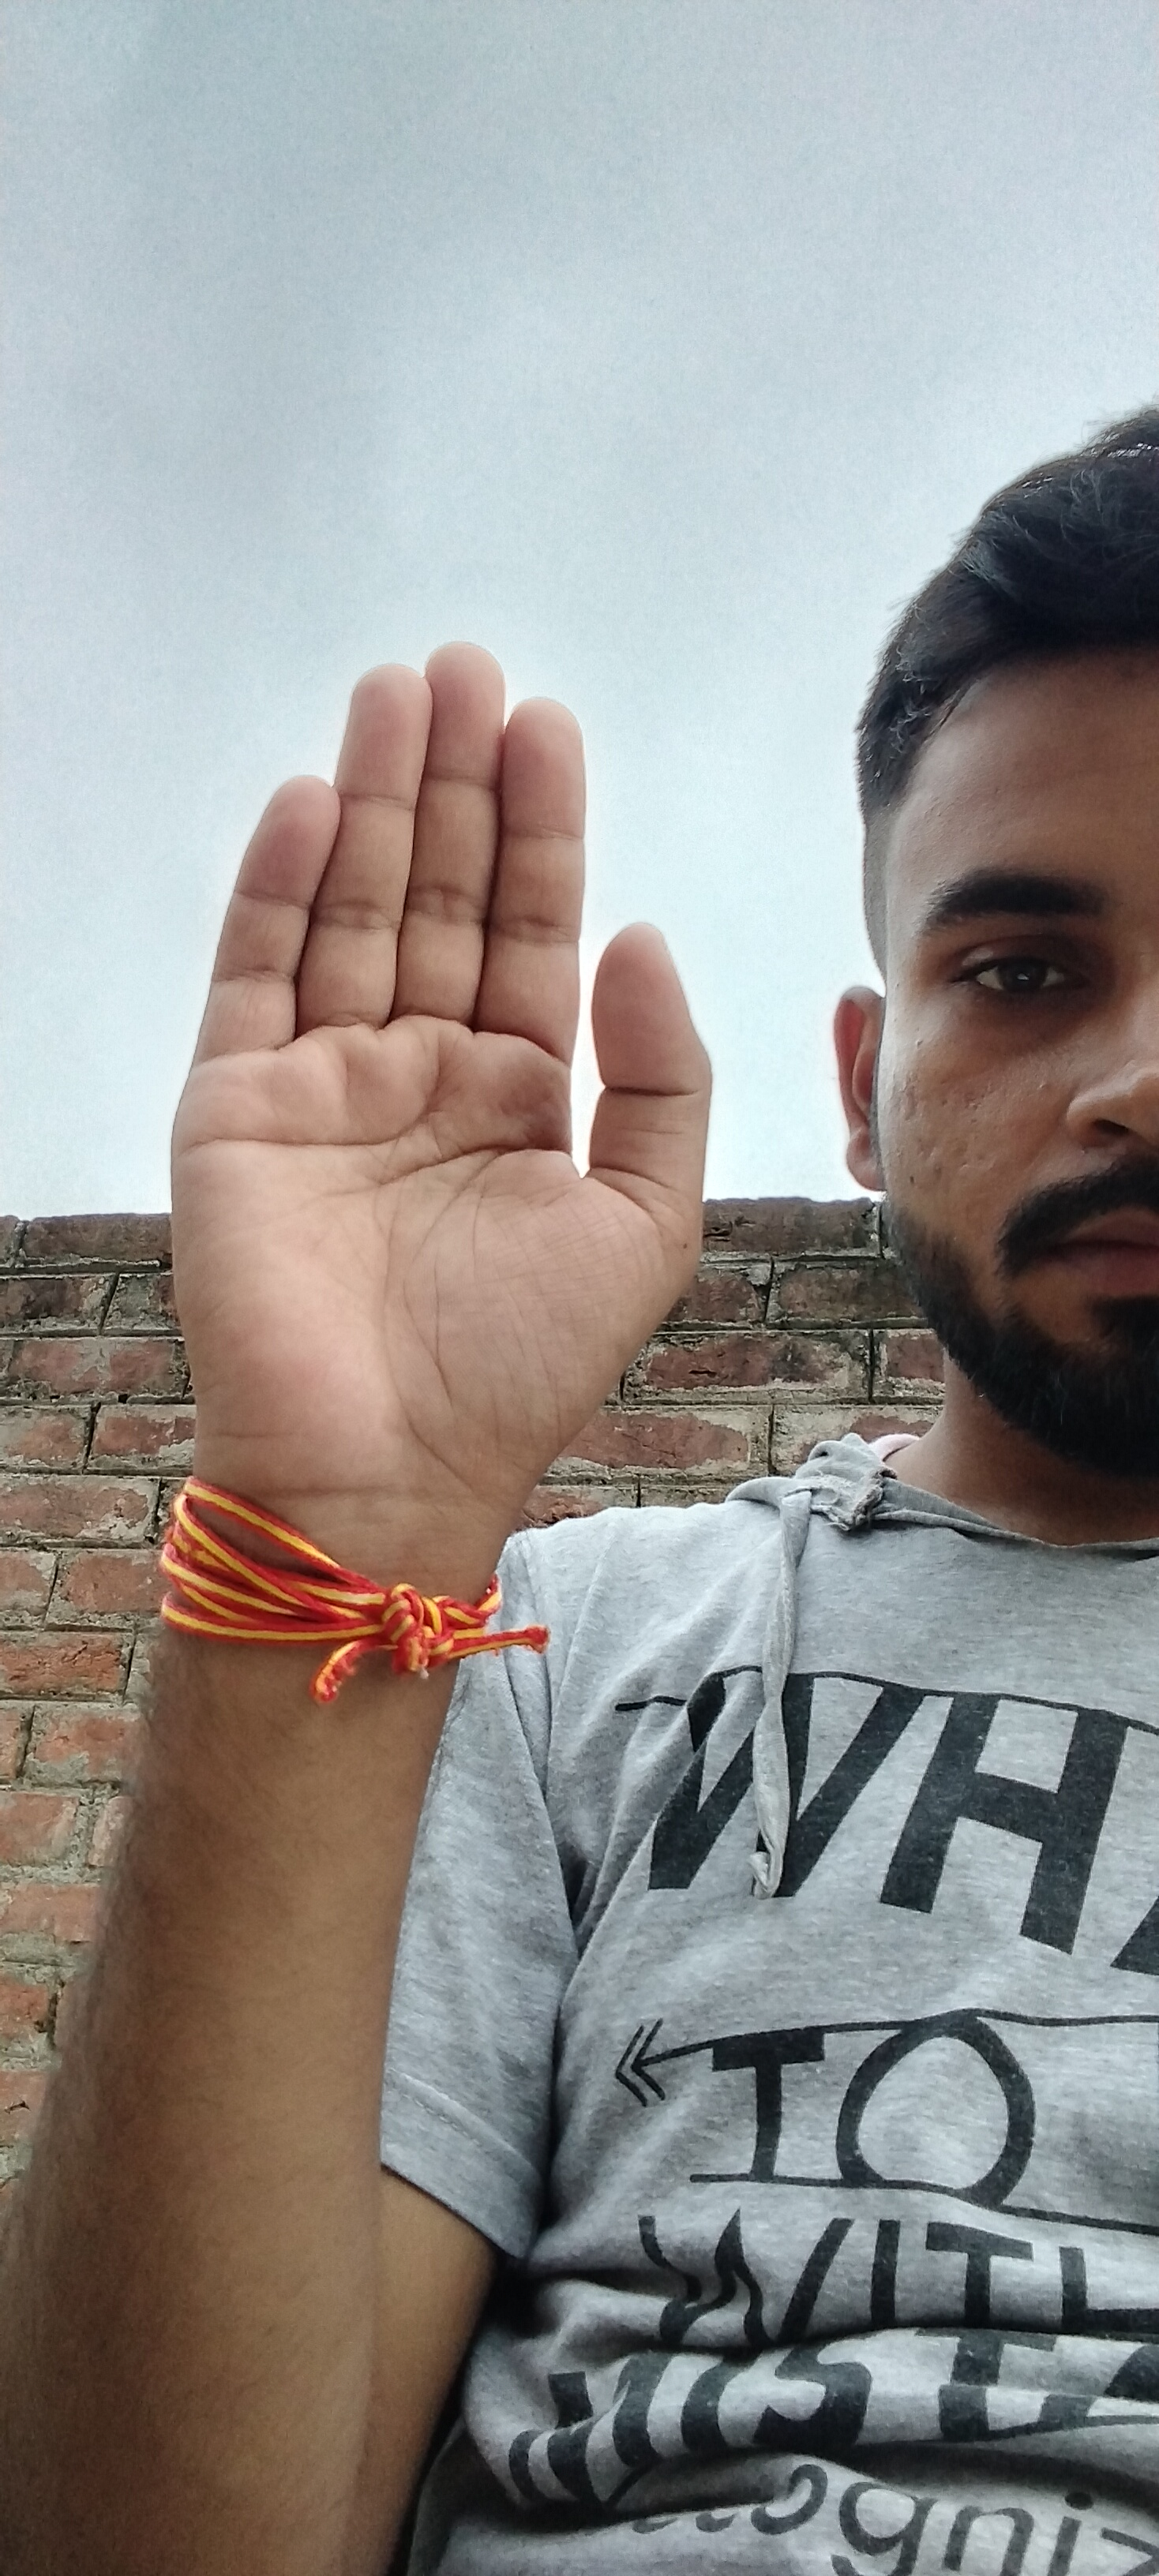Hello: (151, 628, 760, 1554)
